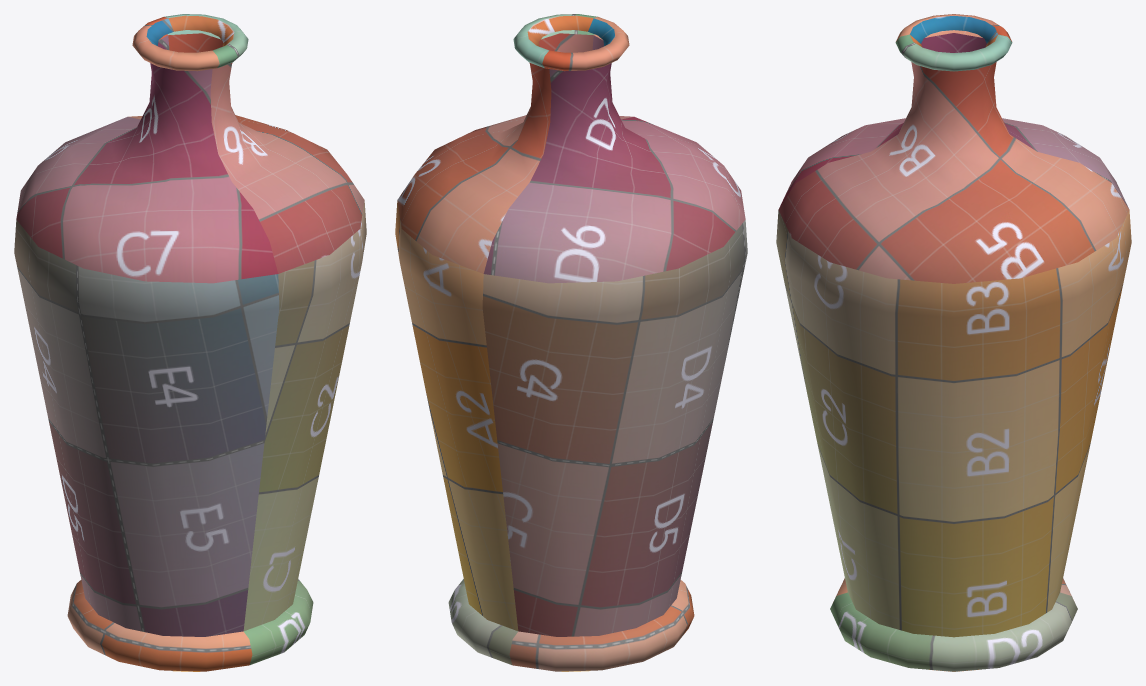
The model's file is MediumVase_LOW.fbx.
The picture shows the model from 3 angles, left to right: view 1: azimuth 30°, elevation 25°; view 2: azimuth 150°, elevation 25°; view 3: azimuth 270°, elevation 25°; orthographic projection.
Visible parts, largest first — view 1: MediumVase_LOW.001; view 2: MediumVase_LOW.001; view 3: MediumVase_LOW.001.
Part boxes in pixels (left/top/right/bottom): MediumVase_LOW.001: left=14, top=14, right=366, bottom=671; MediumVase_LOW.001: left=395, top=14, right=747, bottom=671; MediumVase_LOW.001: left=776, top=14, right=1131, bottom=671.
Size of the model in its own units: 1.1 by 2.07 by 1.1.
1 material, 1 textured.
